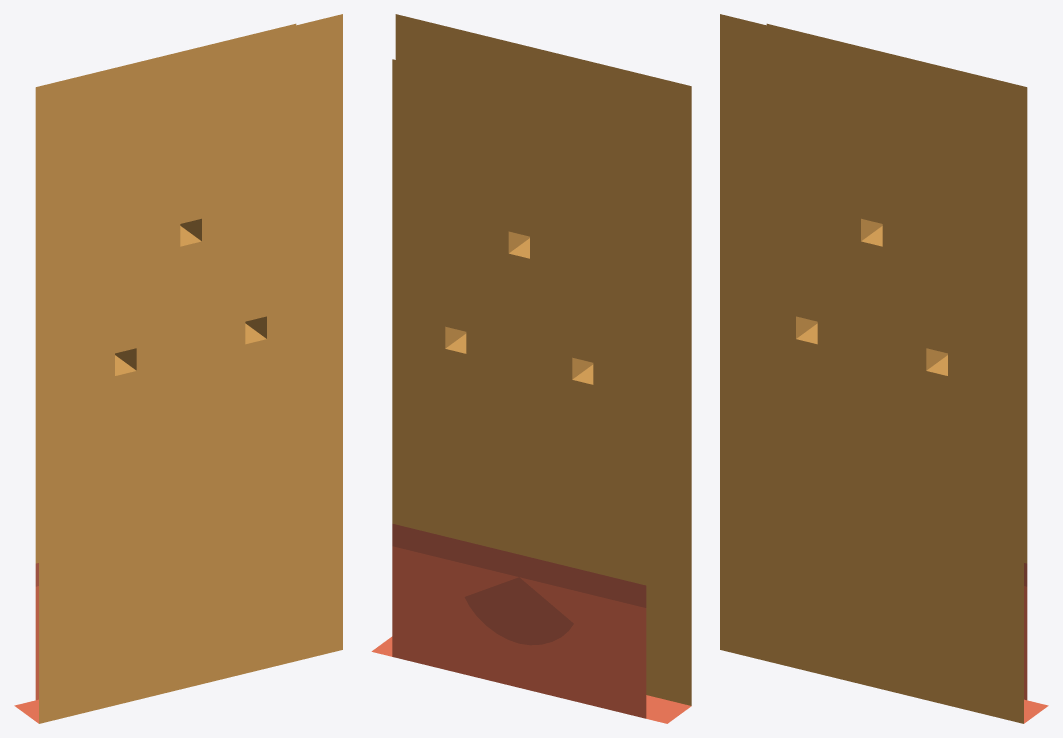
The model's file is ground.fbx.
The picture shows the model from 3 angles, left to right: view 1: azimuth 30°, elevation 25°; view 2: azimuth 150°, elevation 25°; view 3: azimuth 330°, elevation 25°; orthographic projection. The views are drawn at different scales.
Visible parts, largest first — view 1: Cube; view 2: Cube; view 3: Cube.
Part boxes in pixels (left/top/right/bottom): Cube: left=14, top=14, right=342, bottom=723; Cube: left=371, top=14, right=691, bottom=723; Cube: left=720, top=14, right=1048, bottom=723.
Bounding box in the file's own units: 700 × 1400 × 100.
Materials: 1 (1 with a texture image).
